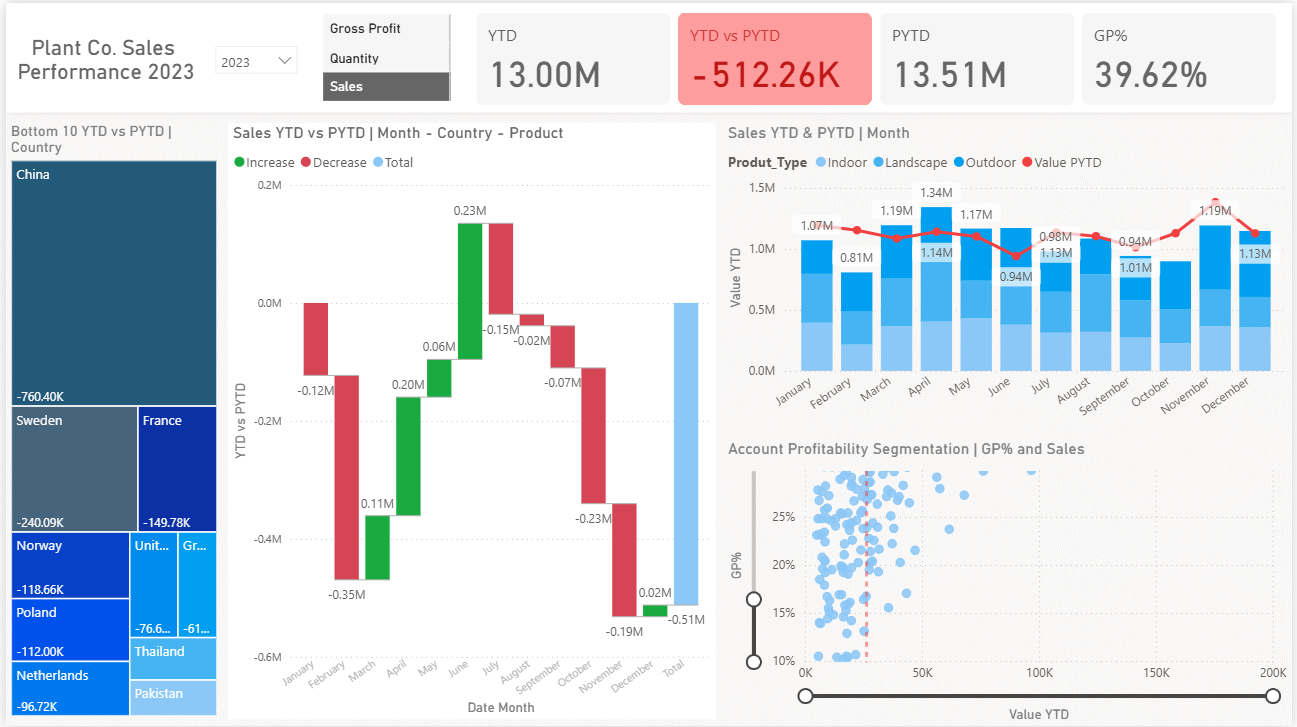

This screenshot's page, from the dashboard's own definition file:
{"tool":"powerbi","page":{"name":"Performance Report","canvas":[1280,720],"ordinal":0},"visuals":[{"type":"cardVisual","fields":{"Data":["_Measures.S_YTD","_Measures.YTD vs PYTD","_Measures.S_PYTD","_Measures.GP%"]},"box":[463,4.2,806.2,102.1],"z":0},{"type":"advancedSlicerVisual","fields":{"Values":["Slc_Values.Values"]},"box":[309.8,5.9,137.3,98],"z":1000},{"type":"slicer","fields":{"Values":["Dim_Date.Date.Variation.Date Hierarchy.Year"]},"box":[198.4,32.7,101.3,50.2],"z":2000},{"type":"treemap","title":"Bottom 10 YTD vs PYTD | Country","fields":{"Values":["_Measures.YTD vs PYTD"],"Group":["Dim_Account.country"]},"box":[0,118.7,214.6,594.4],"z":3000},{"type":"waterfallChart","fields":{"Y":["_Measures.YTD vs PYTD"],"Category":["Dim_Date.Date.Variation.Date Hierarchy.Month","Dim_Account.country","Dim_Product.Produt_Type","Dim_Product.Product_Name"]},"box":[220.3,119.6,485.2,593.5],"z":4000},{"type":"lineStackedColumnComboChart","fields":{"Y":["_Measures.S_YTD"],"Y2":["_Measures.S_PYTD"],"Category":["Dim_Date.Date.Variation.Date Hierarchy.Quarter","Dim_Date.Date.Variation.Date Hierarchy.Month"],"Series":["Dim_Product.Produt_Type"]},"box":[714.1,119.6,565.9,314.3],"z":5000},{"type":"scatterChart","fields":{"Y":["_Measures.GP%"],"X":["_Measures.S_YTD"],"Category":["Dim_Account.Account"]},"box":[714.1,433.9,565.9,285.8],"z":6000},{"type":"card","fields":{"Values":["_Measures._Report title"]},"box":[0,20.9,198.5,68.4],"z":7000}]}

Visuals, with their boxes in screenshot pixels (x1, y1, x2, y2), scaled from the page's 1280x720 canvas onto the 1297x727 screenshot:
cardVisual - _Measures.S_YTD x _Measures.YTD vs PYTD: [469,4,1286,107]
advancedSlicerVisual - Slc_Values.Values: [314,6,453,105]
slicer - Dim_Date.Date.Variation.Date Hierarchy.Year: [201,33,304,84]
"Bottom 10 YTD vs PYTD | Country" treemap: [0,120,217,720]
waterfallChart - _Measures.YTD vs PYTD x Dim_Date.Date.Variation.Date Hierarchy.Month: [223,121,715,720]
lineStackedColumnComboChart - _Measures.S_YTD x _Measures.S_PYTD: [724,121,1296,438]
scatterChart - _Measures.GP% x _Measures.S_YTD: [724,438,1296,726]
card - _Measures._Report title: [0,21,201,90]
